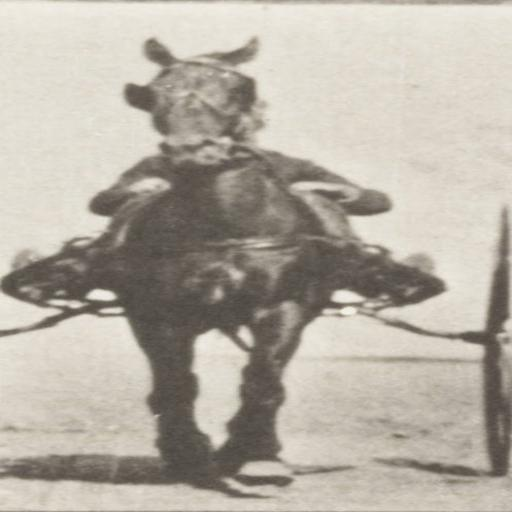horse: (98, 33, 334, 483)
